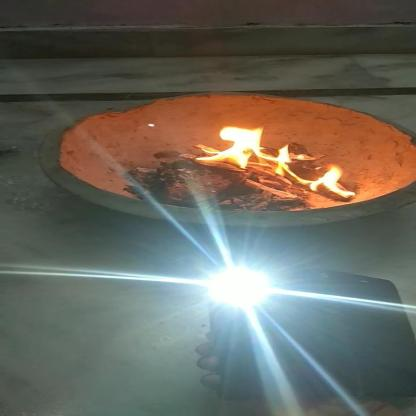fire: (191, 120, 297, 174), (302, 160, 362, 202)
